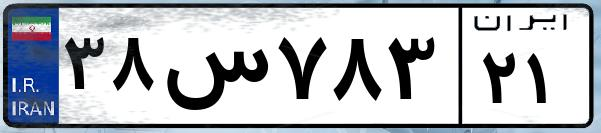1: (525, 38, 570, 115)
2: (475, 38, 525, 113)
3: (385, 28, 445, 110), (57, 26, 110, 100)
7: (270, 28, 330, 110)
8: (330, 28, 385, 110), (110, 28, 158, 98)
س: (158, 20, 270, 120)
